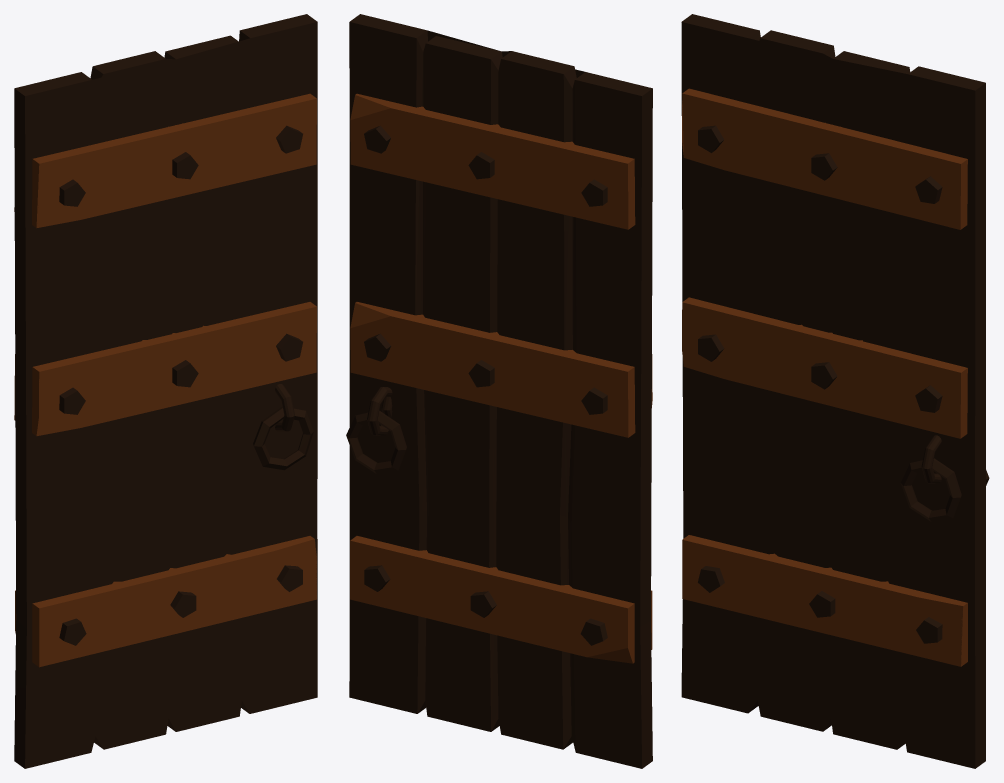
The model's file is door.obj.
3 renders of one model, left to right at view 1: azimuth 30°, elevation 25°; view 2: azimuth 150°, elevation 25°; view 3: azimuth 330°, elevation 25°, orthographic.
Parts seen in each view (by area): view 1: door.001; view 2: door.001; view 3: door.001.
Part boxes in pixels (x1=…): door.001: x1=14, y1=14, x2=317, y2=768; door.001: x1=346, y1=14, x2=652, y2=768; door.001: x1=681, y1=14, x2=989, y2=768.
Bounding box in the file's own units: 0.9863 × 2.18 × 0.2437.
